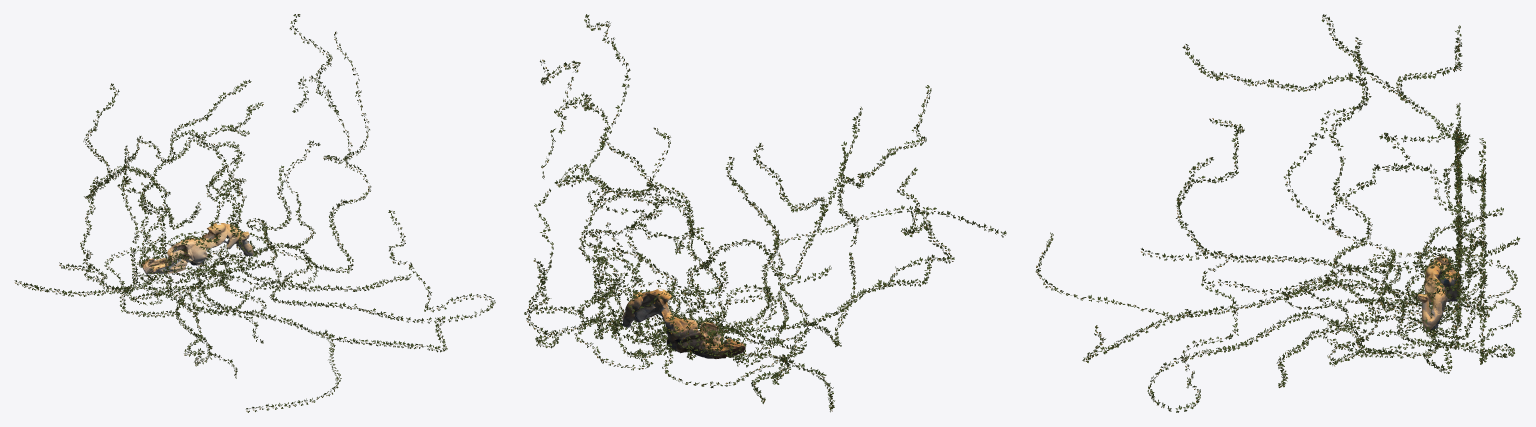
The model's file is project4.glb.
3 views of the same model, side by side, from view 1: azimuth 30°, elevation 25°; view 2: azimuth 150°, elevation 25°; view 3: azimuth 270°, elevation 25° (orthographic). The views are drawn at different scales.
Parts seen in each view (by area): view 1: 04 Jakab Dalma Tóth Anna; view 2: 04 Jakab Dalma Tóth Anna; view 3: 04 Jakab Dalma Tóth Anna.
Boxes of the visible parts, left/top/right/bottom form: 04 Jakab Dalma Tóth Anna: left=14, top=14, right=495, bottom=412; 04 Jakab Dalma Tóth Anna: left=524, top=14, right=1006, bottom=412; 04 Jakab Dalma Tóth Anna: left=1035, top=14, right=1521, bottom=412.
Size of the model in its own units: 11.86 by 7.71 by 12.21.
Materials: 2 (2 with a texture image).
